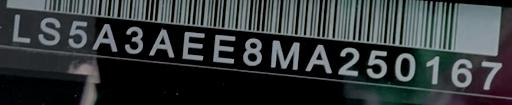letter: (269, 37, 301, 70), (302, 42, 334, 75), (90, 21, 120, 52), (148, 26, 176, 59), (211, 32, 239, 65), (180, 29, 206, 62), (36, 15, 62, 47), (336, 46, 362, 77), (365, 47, 389, 80), (450, 56, 474, 88), (480, 58, 504, 90), (10, 12, 32, 44), (122, 25, 144, 56), (241, 36, 263, 67), (394, 51, 416, 82), (67, 19, 89, 49), (424, 52, 442, 86)
